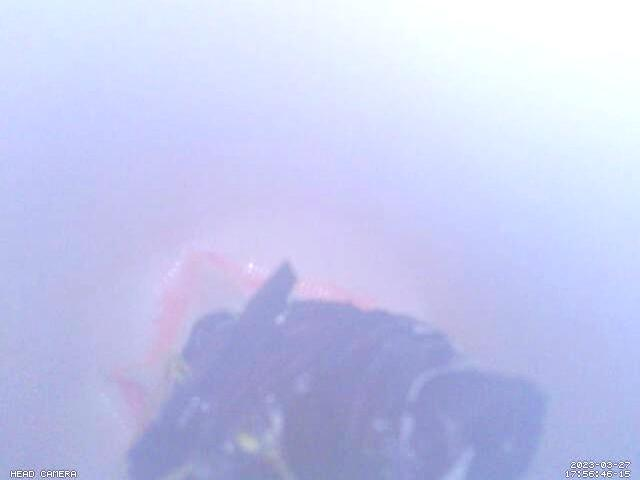head: (108, 246, 370, 432)
